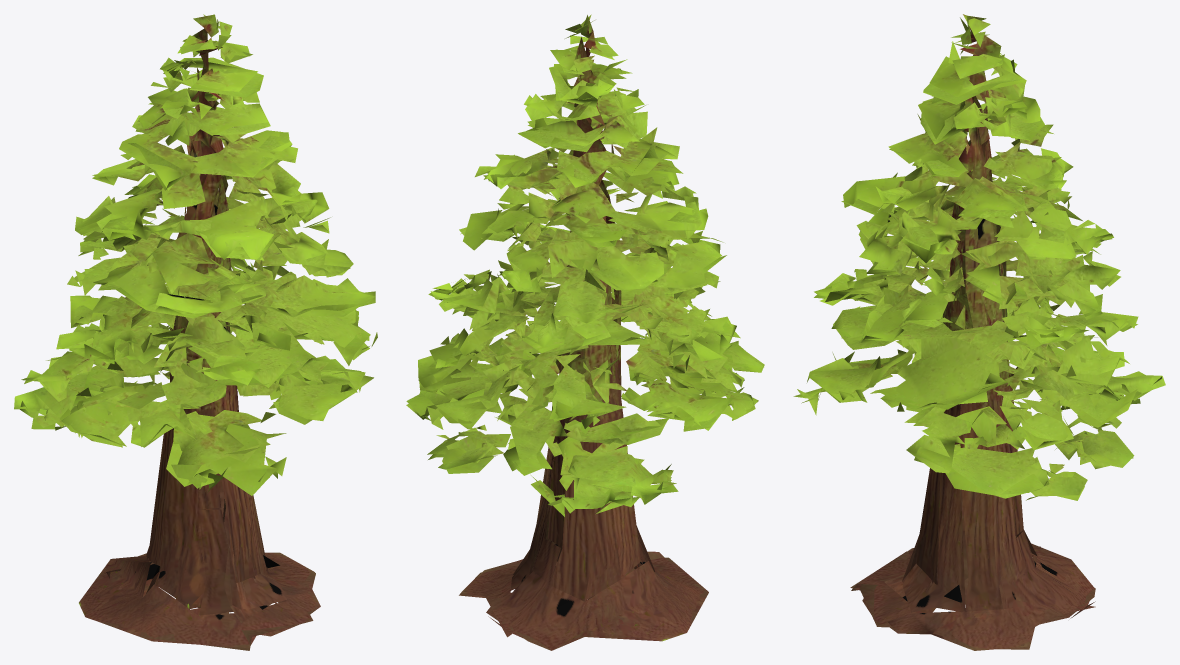
File: Redwood.glb
3 views of the same model, side by side, from view 1: azimuth 30°, elevation 25°; view 2: azimuth 150°, elevation 25°; view 3: azimuth 270°, elevation 25° (orthographic).
Visible parts, largest first — view 1: Mesh0; view 2: Mesh0; view 3: Mesh0.
Boxes of the visible parts, left/top/right/bottom form: Mesh0: left=14, top=14, right=377, bottom=650; Mesh0: left=406, top=14, right=764, bottom=650; Mesh0: left=793, top=14, right=1165, bottom=650.
Size of the model in its own units: 1.1 by 1.93 by 1.11.
Materials: 1 (1 with a texture image).
